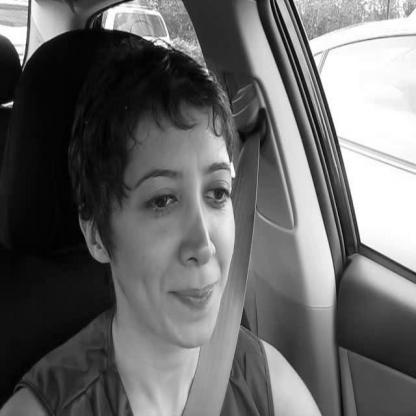seatbelt: (52, 26, 254, 416)
